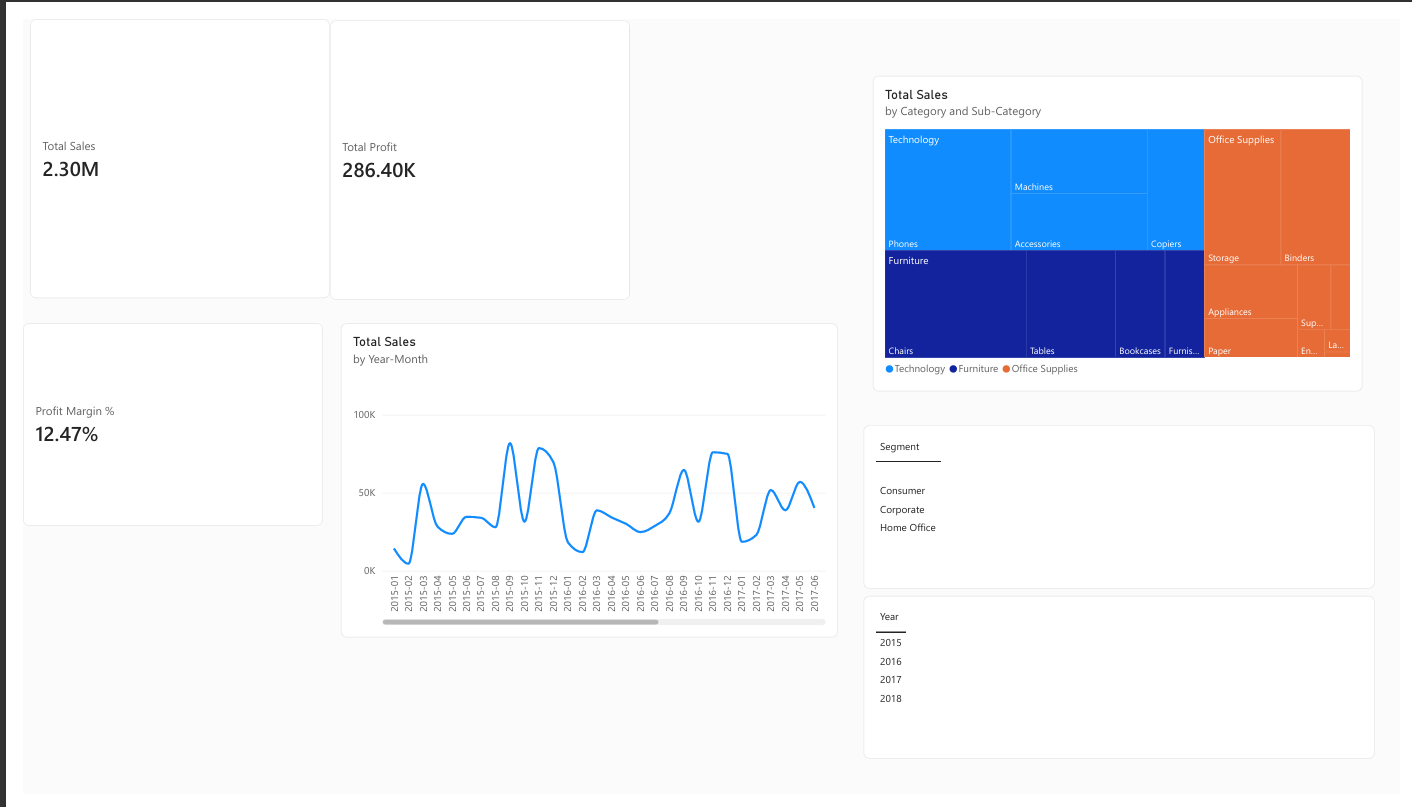

What the dashboard file says about the page in this screenshot:
{"tool":"powerbi","page":{"name":"Page 1","canvas":[1920,1080],"ordinal":0},"visuals":[{"type":"cardVisual","fields":{"Data":["Fact_Orders.Total Sales"]},"box":[10.3,0,417.8,389],"z":0},{"type":"cardVisual","fields":{"Data":["Fact_Orders.Total Profit"]},"box":[428.1,2.1,418,389],"z":1},{"type":"cardVisual","fields":{"Data":["Fact_Orders.Profit Margin %"]},"box":[0,424,418,282],"z":2},{"type":"lineChart","fields":{"Category":["Dim_Date.Year-Month"],"Y":["Fact_Orders.Total Sales"]},"box":[442.5,424,693.7,438.4],"z":3},{"type":"treemap","fields":{"Details":["Dim_Product.Sub-Category"],"Group":["Dim_Product.Category"],"Values":["Fact_Orders.Total Sales"]},"box":[1185.1,78.7,683.4,440.5],"z":4},{"type":"tableEx","fields":{"Values":["Dim_Customer.Segment"]},"box":[1172.3,566,712.8,227.7],"z":5},{"type":"tableEx","fields":{"Values":["Dim_Date.Year"]},"box":[1172.3,803.6,712.8,227.7],"z":6}]}

Visuals, with their boxes in screenshot pixels (x1, y1, x2, y2), scaled from the page's 1920x1080 canvas onto the 1412x807 screenshot:
cardVisual - Fact_Orders.Total Sales: [8, 0, 315, 291]
cardVisual - Fact_Orders.Total Profit: [315, 2, 622, 292]
cardVisual - Fact_Orders.Profit Margin %: [0, 317, 307, 528]
lineChart - Dim_Date.Year-Month x Fact_Orders.Total Sales: [325, 317, 836, 644]
treemap - Dim_Product.Sub-Category x Dim_Product.Category: [872, 59, 1374, 388]
tableEx - Dim_Customer.Segment: [862, 423, 1386, 593]
tableEx - Dim_Date.Year: [862, 600, 1386, 771]
